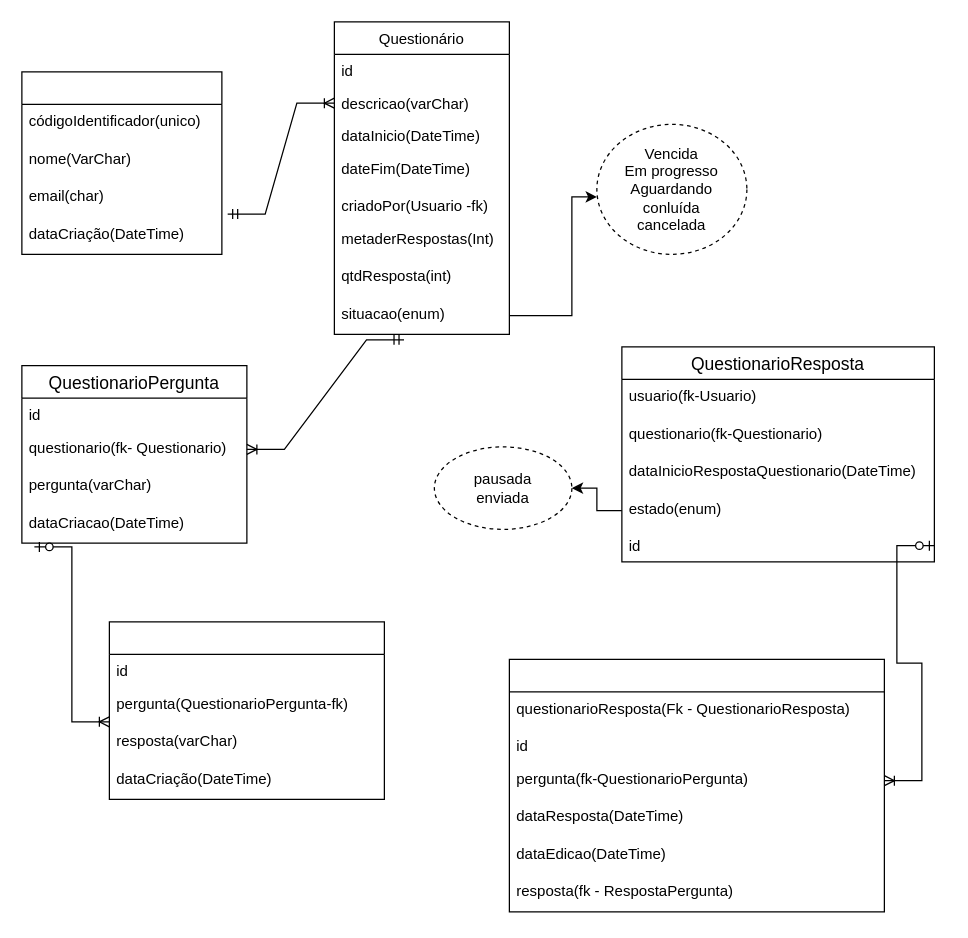
Some shapes in this 968 by 938 pixel diagram are drawn without their labels. Each missing label, with the box of its shape:
RespostaPergunta: (108, 621, 384, 799)
RespostaPerguntaQuestionario: (508, 658, 884, 912)
Usuario: (21, 71, 222, 254)
